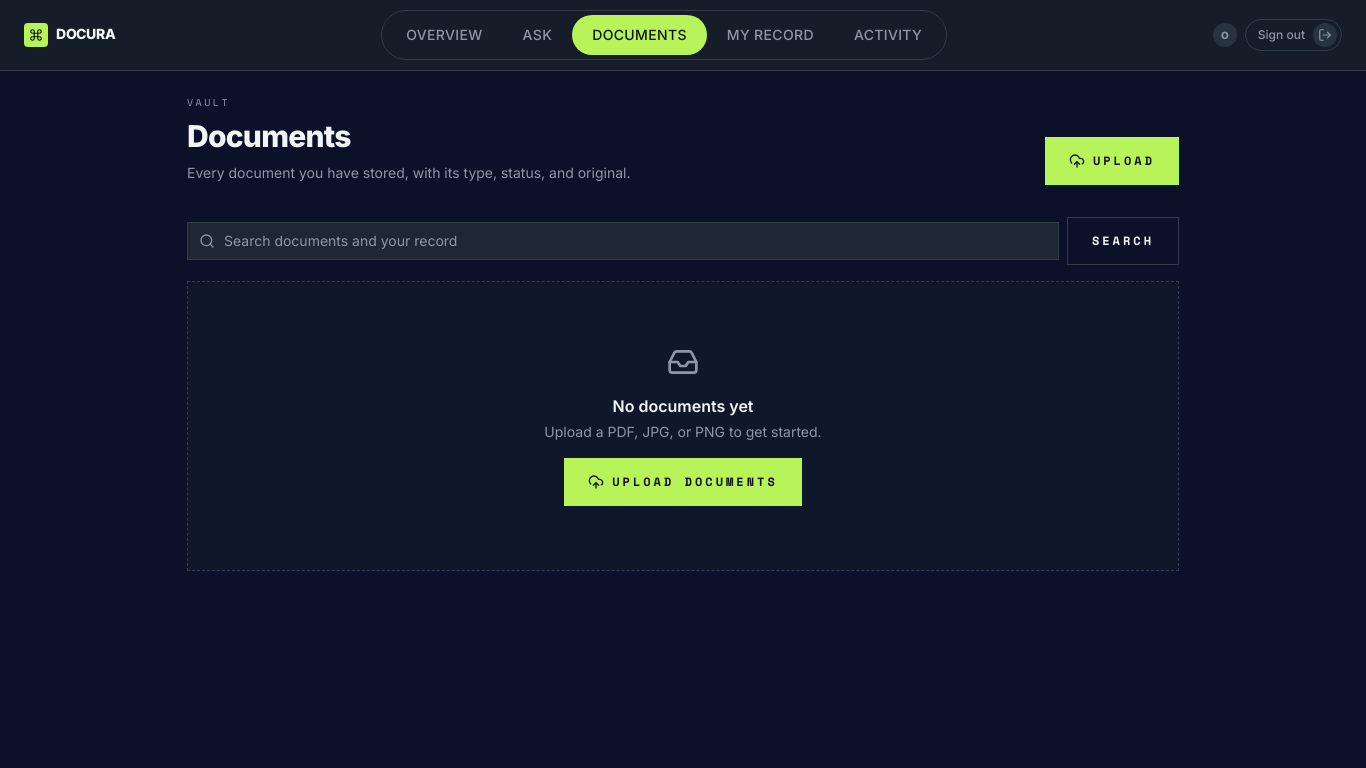
it: Documents vault (§7) › shows a search error state on API failure
Type "boom" into the search field at coordinates (623, 241), box top-left (187, 222), bottom-right (1059, 260)
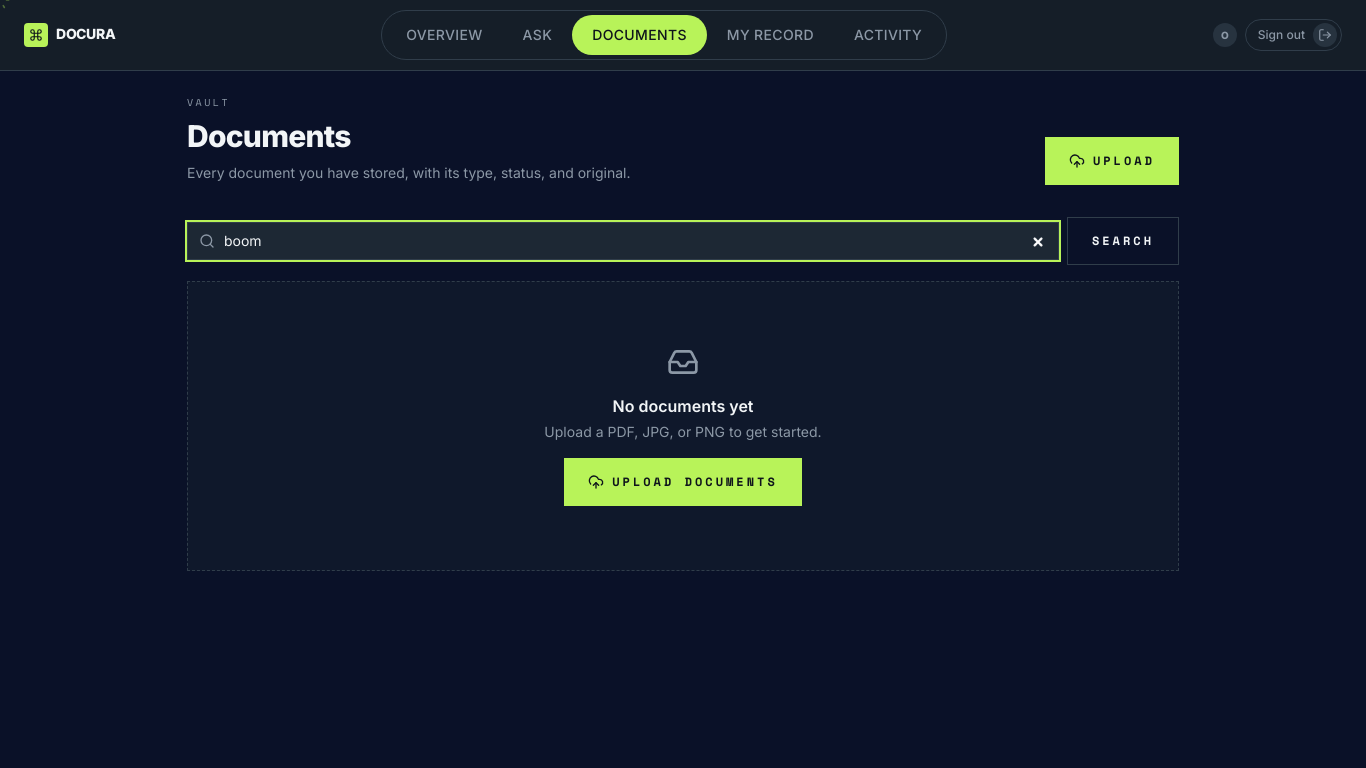
Press Enter
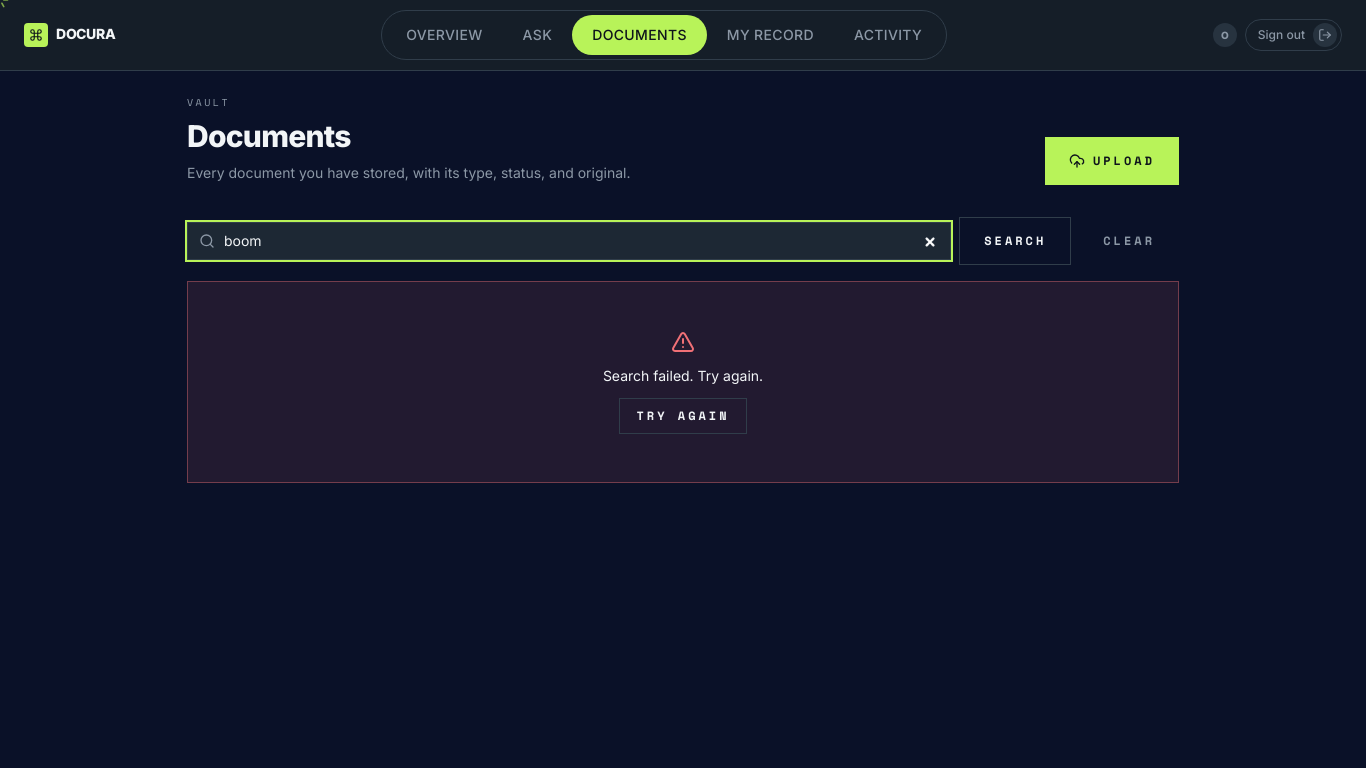
Expected: the text "Search failed. Try again." is shown, top-left (603, 366), bottom-right (763, 386)
